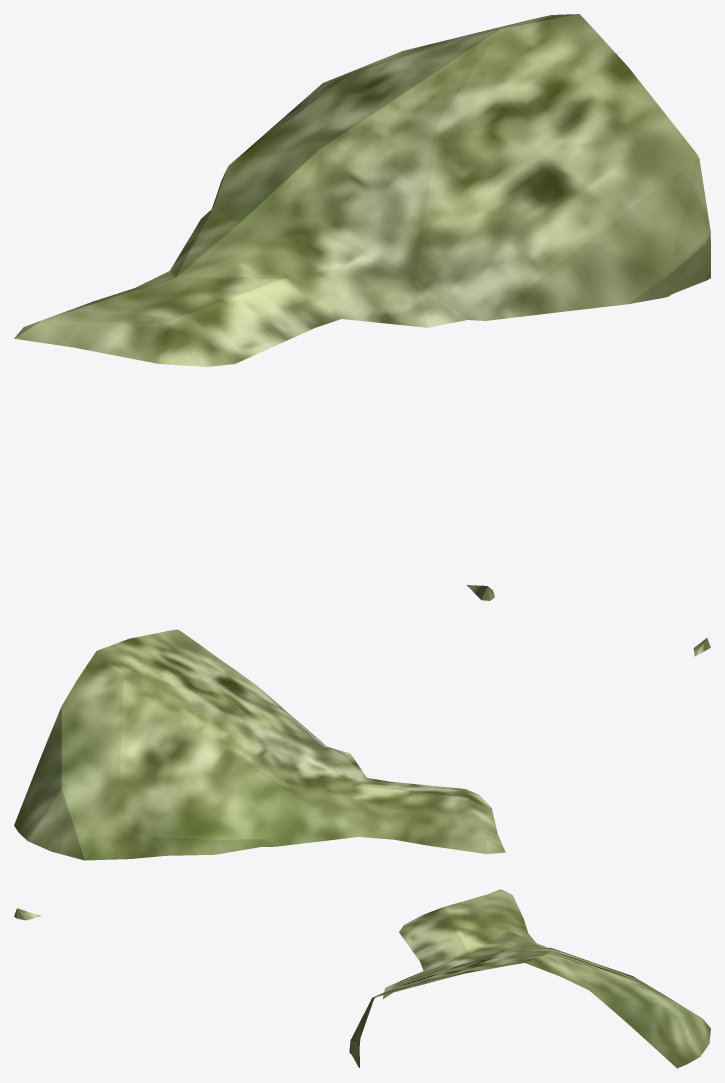
The picture shows the model from 3 angles, top to bottom: view 1: azimuth 30°, elevation 25°; view 2: azimuth 150°, elevation 25°; view 3: azimuth 270°, elevation 25°; orthographic projection. The views are drawn at different scales.
Size of the model in its own units: 1.01 by 0.2784 by 1.67.
Materials: 1 (1 with a texture image).
